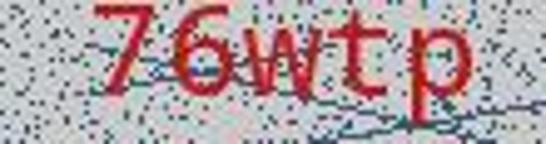6: (168, 5, 238, 101)
7: (87, 2, 155, 96)
p: (404, 23, 475, 135)
t: (329, 9, 395, 112)
w: (241, 19, 325, 106)
